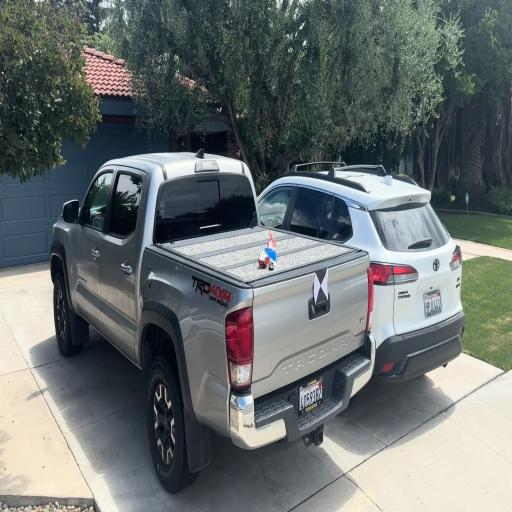target: (314, 268, 328, 304)
